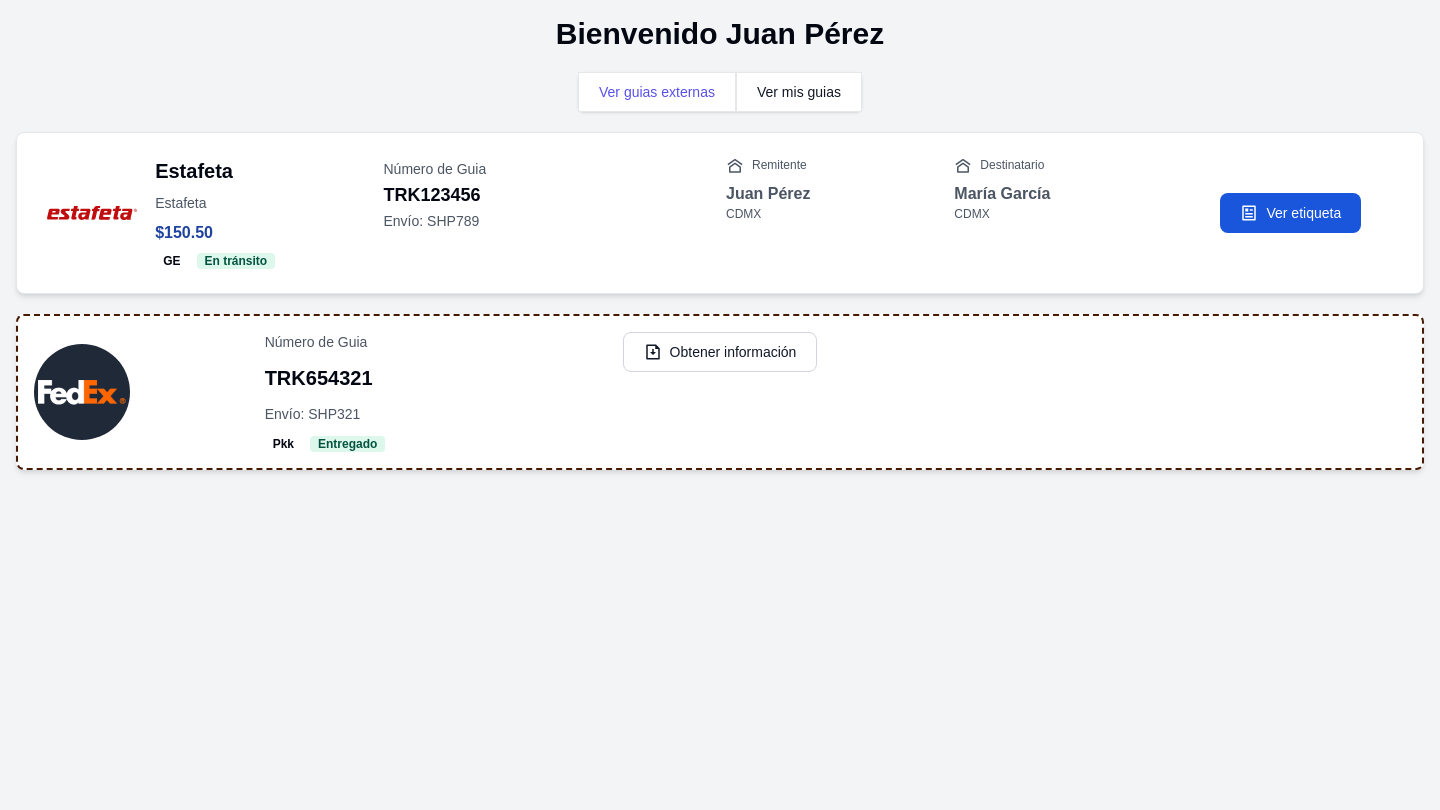
Test case: Order › When switching to DB source › Then should render failed DB record with null external fields
This screenshot has width=1440, height=810.
Step 1. Click the button "Ver mis guias" → (799, 92), box [736,72,862,112]
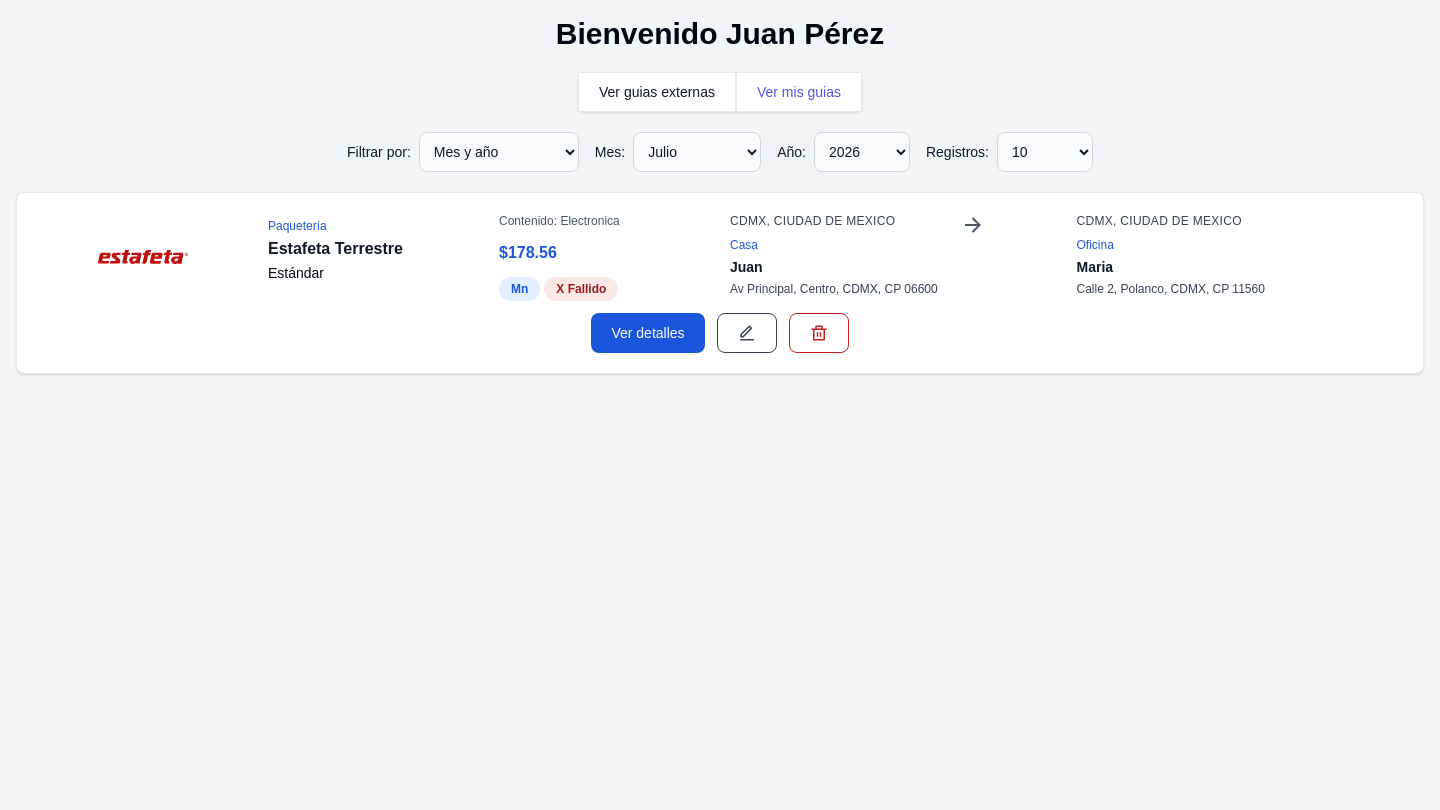
Check: the button with test id "guide-db-details-button" is shown
Step 2. Click the button with test id "guide-db-details-button" → (648, 333), box [591,313,705,353]
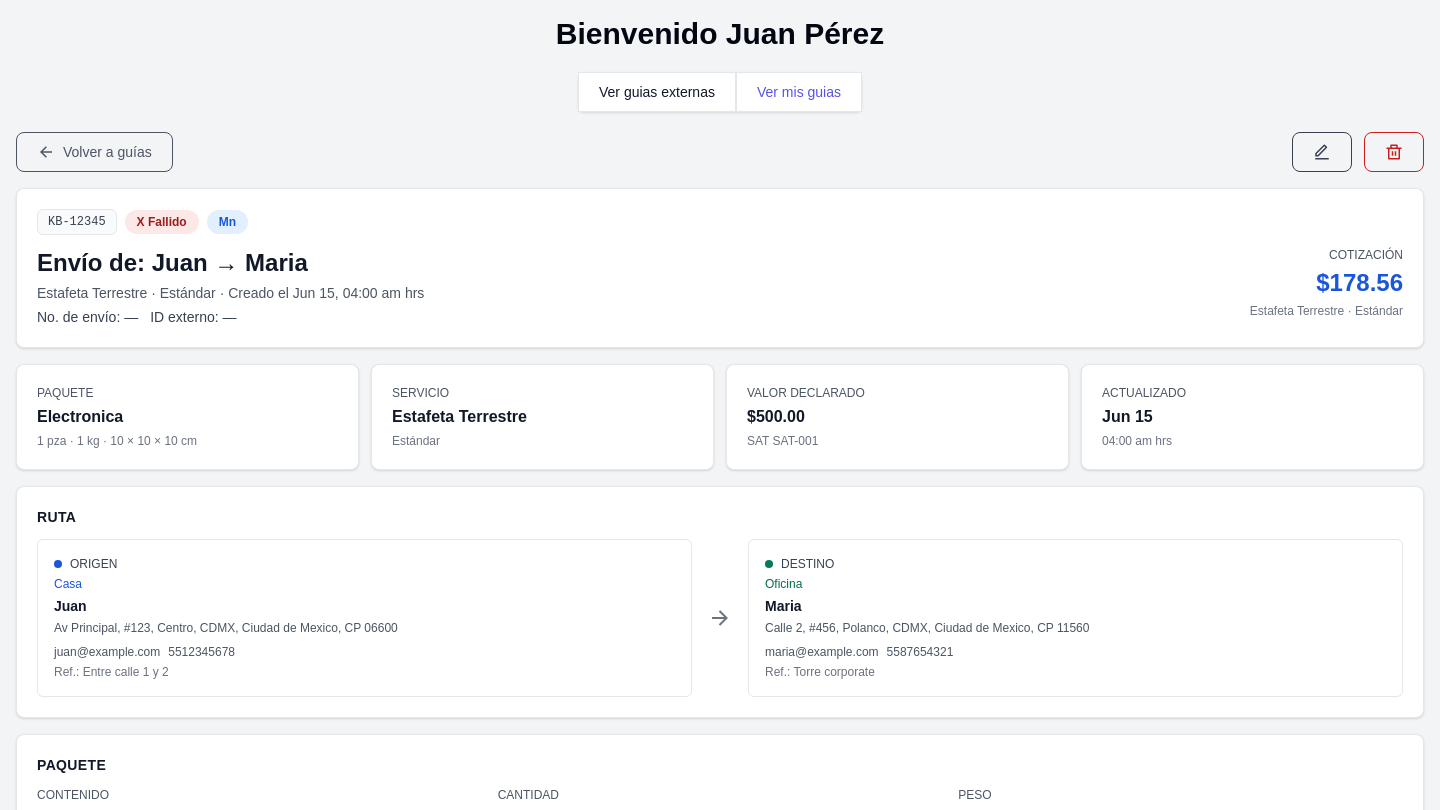
Check: the text "KB-12345" is shown, box [37,209,117,235]
Check: the text "Mn" is shown, box [207,210,248,234]
